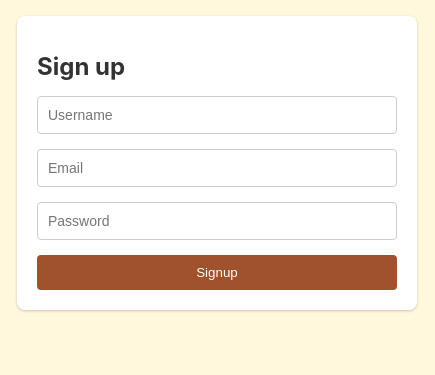
Test: SignUp Component › failed signup
The image size is (435, 375).
Type "existinguser" into the field with placeholder "Username".
click(217, 115); type("existinguser")  # box [37,96,397,134]
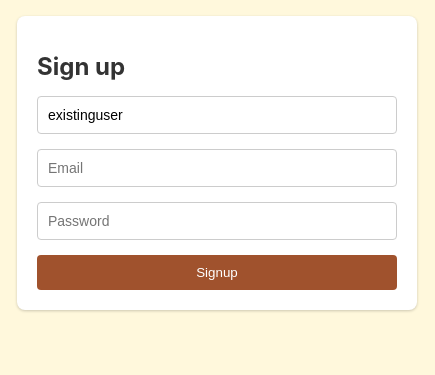
Type "existing@example.com" into the field with placeholder "Email".
click(217, 168); type("existing@example.com")  # box [37,149,397,187]
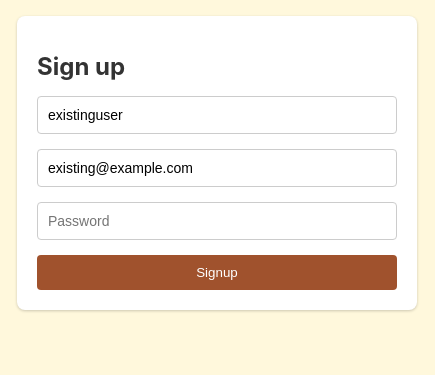
Type "testpassword" into the password field with placeholder "Password".
click(217, 221); type("testpassword")  # box [37,202,397,240]
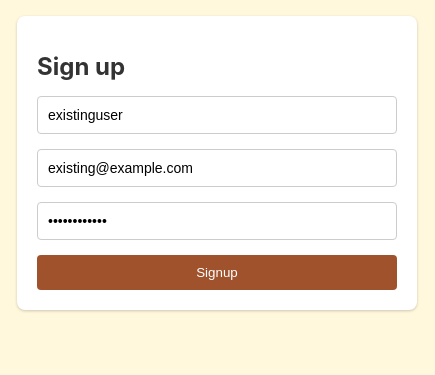
Click the button "Signup".
click(217, 273)  # box [37,255,397,290]
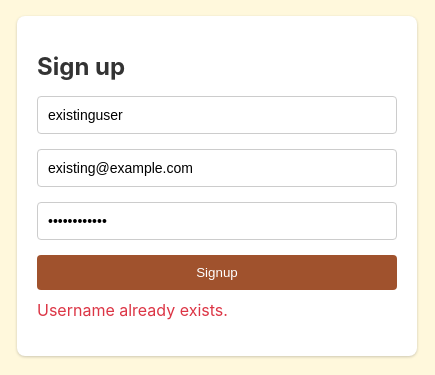
Expected: the text "Username already exists." is shown, [37,300,228,320]
